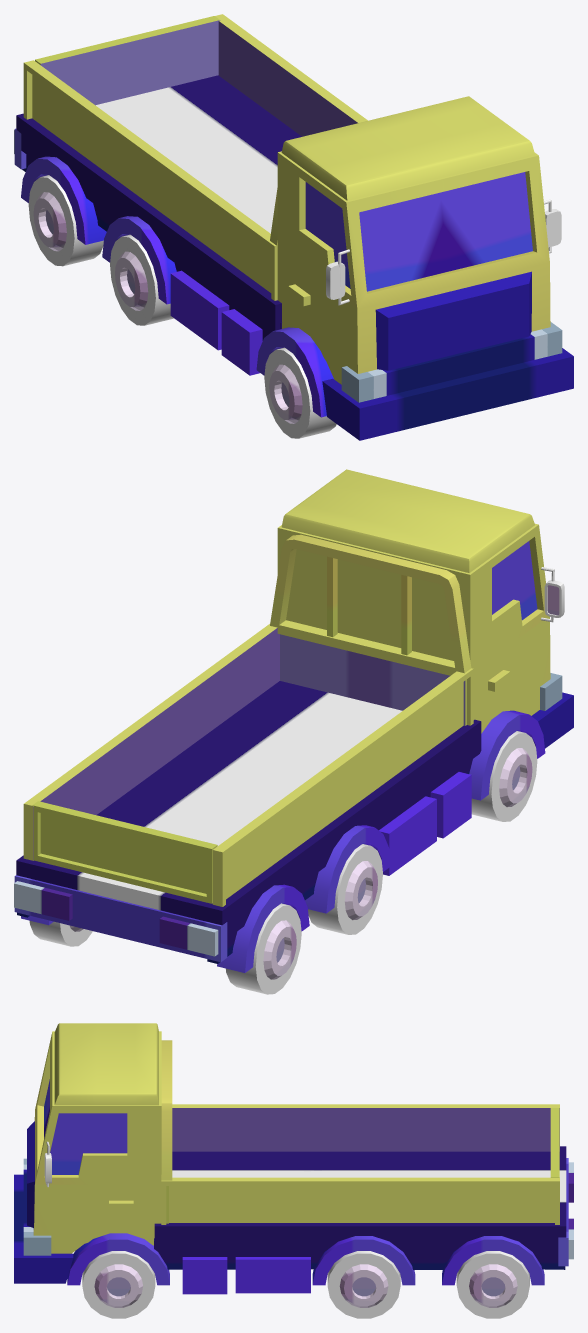
The model's file is Blue_Middle_Truck_Open.fbx.
3 views of the same model, one above another, from view 1: azimuth 30°, elevation 25°; view 2: azimuth 150°, elevation 25°; view 3: azimuth 270°, elevation 25° (orthographic). The views are drawn at different scales.
Parts seen in each view (by area): view 1: Blue_Middle_Truck, Middle_Truck_Back_Door003; view 2: Blue_Middle_Truck, Middle_Truck_Back_Door003; view 3: Blue_Middle_Truck, Middle_Truck_Back_Door003.
Boxes of the visible parts, left/top/right/bottom form: Blue_Middle_Truck: left=14, top=14, right=573, bottom=440; Middle_Truck_Back_Door003: left=35, top=16, right=220, bottom=105; Blue_Middle_Truck: left=14, top=469, right=573, bottom=994; Middle_Truck_Back_Door003: left=32, top=801, right=217, bottom=903; Blue_Middle_Truck: left=14, top=1023, right=573, bottom=1318; Middle_Truck_Back_Door003: left=550, top=1108, right=559, bottom=1177.
Size of the model in its own units: 222 by 243 by 570.
